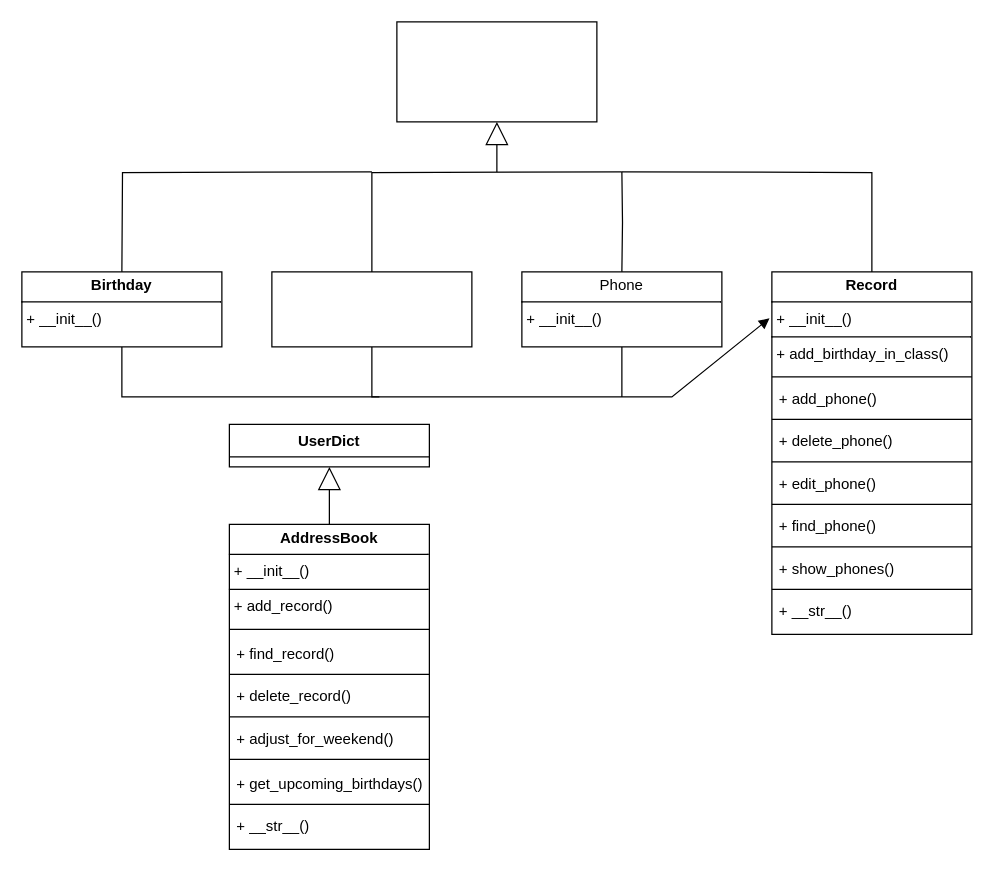
Image size: 994x871. Some labels were removed from this diagram. Each missing label, with the centre of its shape:
Field + __init__() + __str__(): (x=496, y=71)
Name + __init__(): (x=371, y=309)
